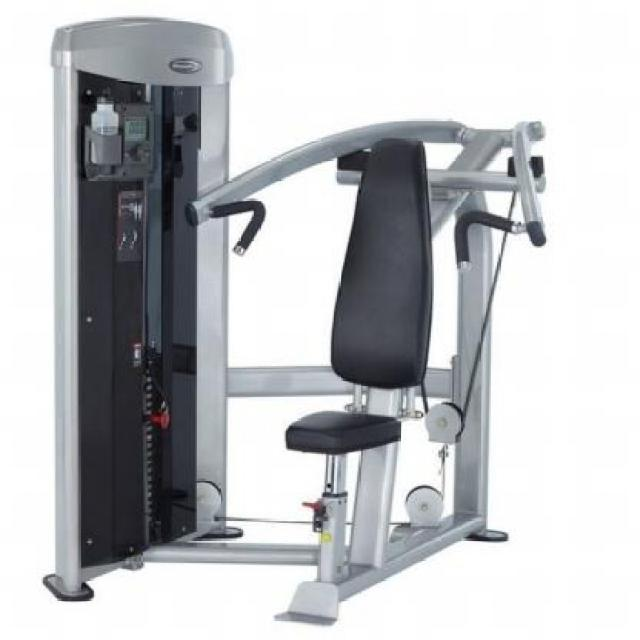shoulder press machine: (40, 12, 565, 634)
